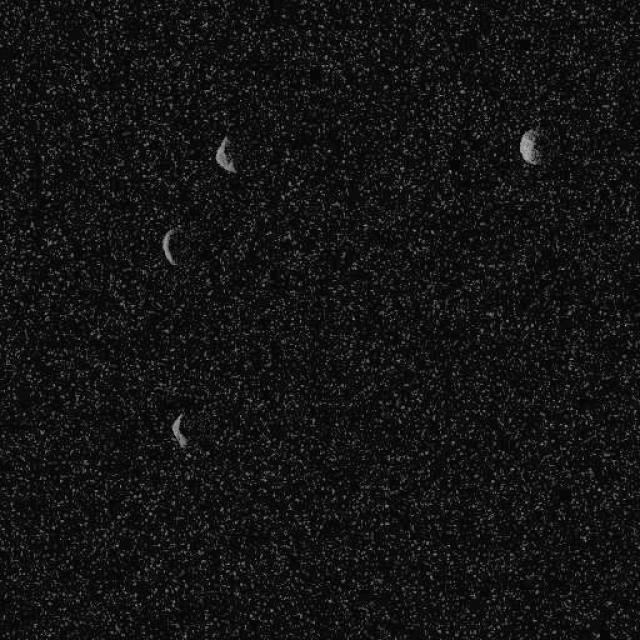D2: (214, 134, 236, 174), (519, 127, 541, 165), (170, 410, 189, 448), (160, 228, 179, 266)
